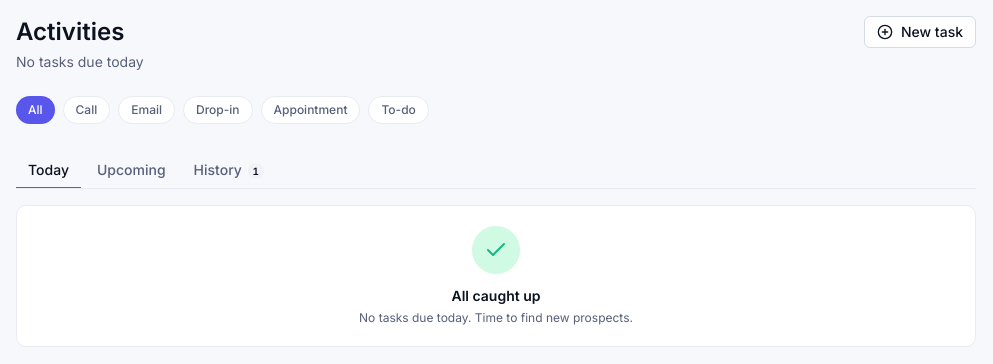
Test: ActivitiesPage / History says who logged it › stays silent on the viewer's OWN rows, so the byline means something
Click the tab "History 1": x=229, y=170 [182, 152, 276, 188]
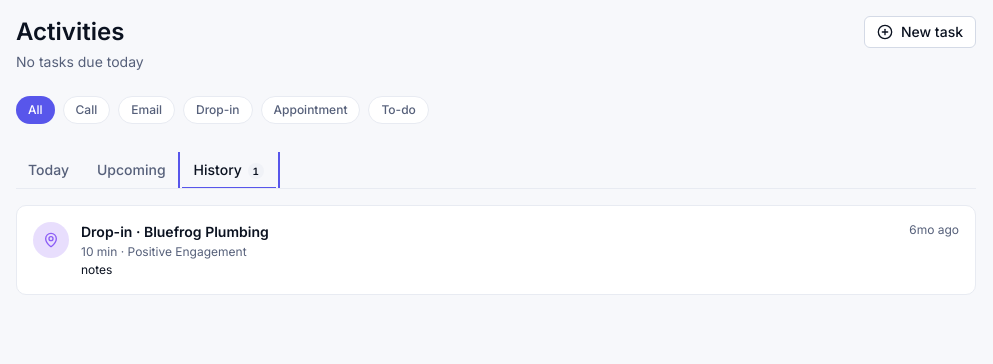
expect the text "Drop-in · Bluefrog Plumbing" is shown: met, box [81, 223, 269, 240]
